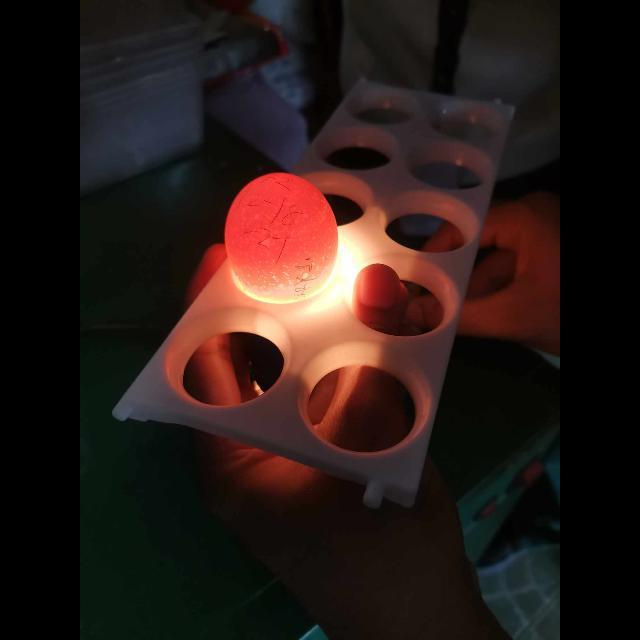Infertile: (222, 170, 344, 292)
